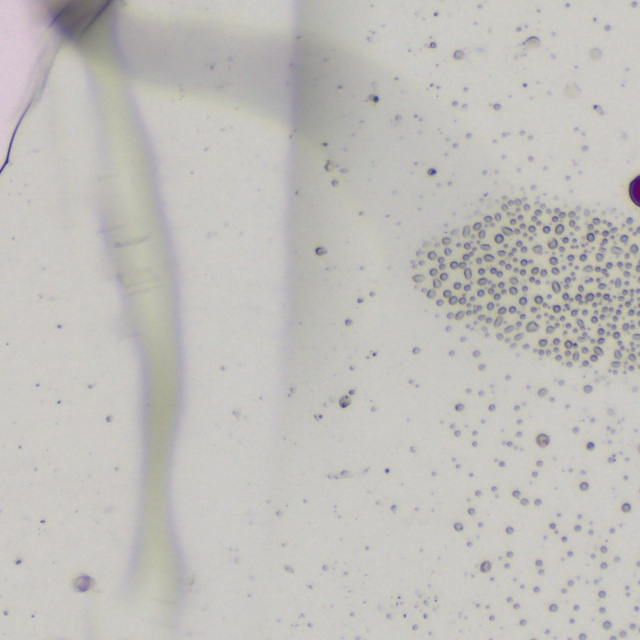viable: (630, 176, 639, 206)
